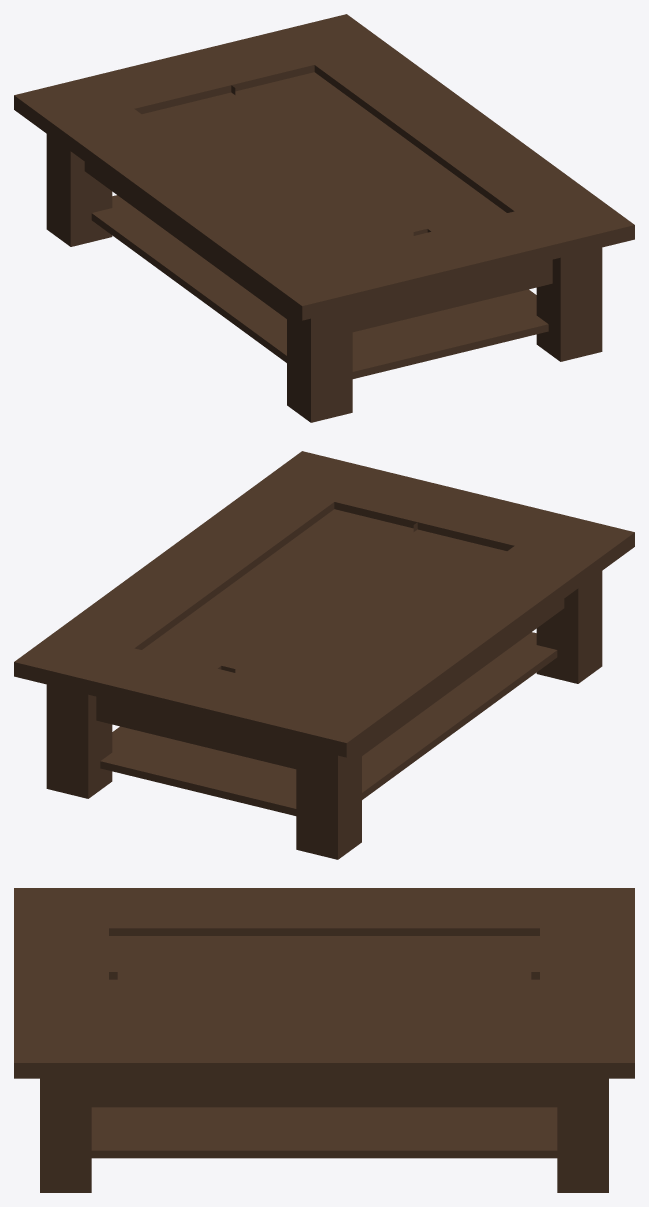
Rendered from table.fbx.
3 views of the same model, one above another, from view 1: azimuth 30°, elevation 25°; view 2: azimuth 150°, elevation 25°; view 3: azimuth 270°, elevation 25° (orthographic). The views are drawn at different scales.
Parts seen in each view (by area): view 1: Frame, Lid, Legs, LowerShelf, Width Supports, Length Supports; view 2: Frame, Lid, Legs, LowerShelf, Width Supports, Length Supports; view 3: Frame, Lid, LowerShelf, Length Supports, Legs.
Boxes of the visible parts, x1,y1,x2,y2 form: Frame: (14,14,634,320); Lid: (137,65,506,255); Legs: (46,134,602,422); LowerShelf: (91,195,548,378); Width Supports: (352,259,552,332); Length Supports: (84,162,286,318); Frame: (14,451,634,757); Lid: (142,502,506,692); Legs: (46,571,602,859); LowerShelf: (100,632,557,815); Width Supports: (96,696,296,769); Length Supports: (362,599,564,755); Frame: (14,888,634,1078); Lid: (109,936,539,1022); LowerShelf: (91,1107,557,1158); Length Supports: (91,1078,557,1107); Legs: (40,1078,608,1192).
Size of the model in its own units: 183 by 122 by 45.72.
